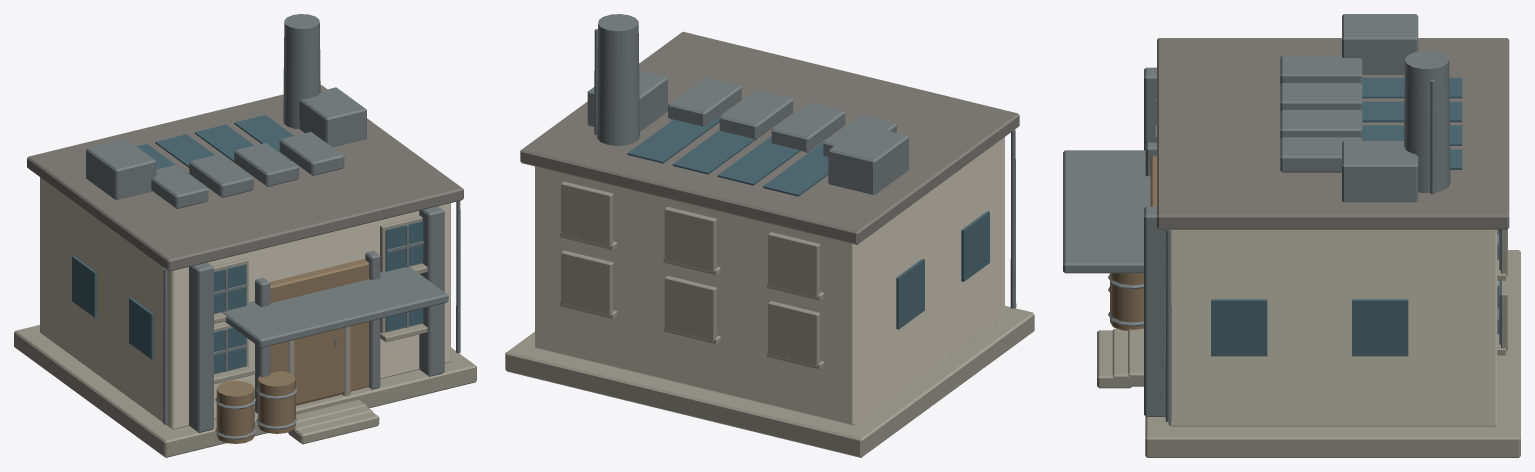
Rendered from bld_depot_a10.glb.
3 renders of one model, left to right at view 1: azimuth 30°, elevation 25°; view 2: azimuth 150°, elevation 25°; view 3: azimuth 270°, elevation 25°, orthographic. The views are drawn at different scales.
Visible parts, largest first — view 1: bld_depot_a10; view 2: bld_depot_a10; view 3: bld_depot_a10.
Part boxes in pixels (x1,y1,x2,y2): bld_depot_a10: (14, 14, 476, 457); bld_depot_a10: (505, 14, 1034, 457); bld_depot_a10: (1063, 14, 1520, 457).
Bounding box in the file's own units: 3.8 × 3.41 × 3.9.
